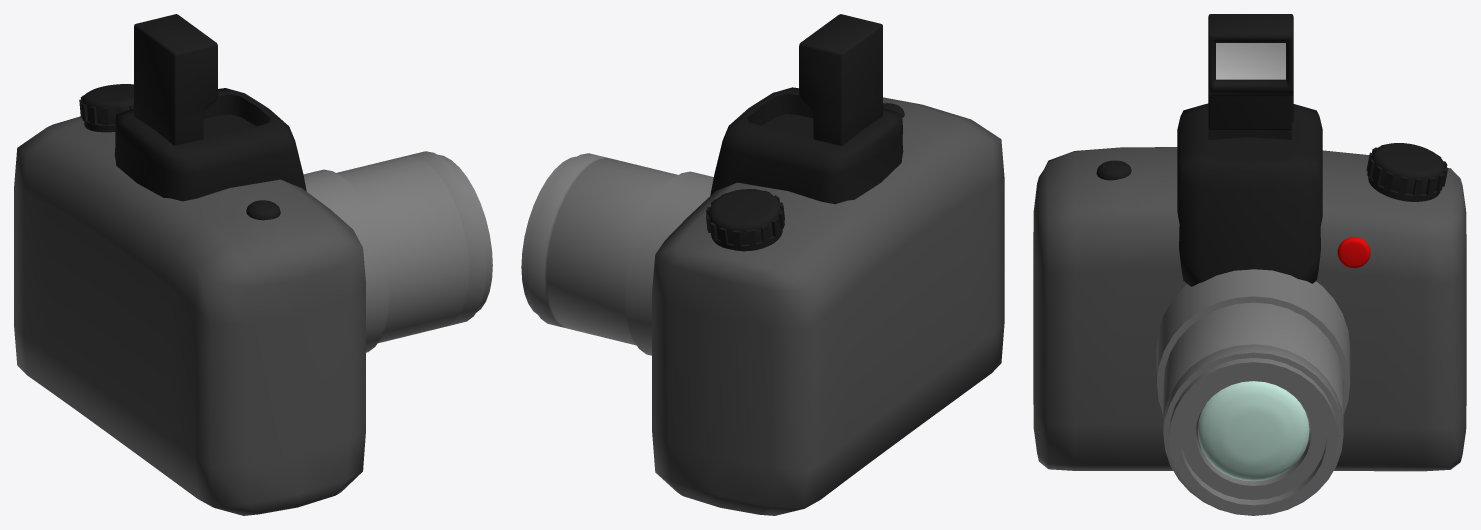
Rendered from camara de fotos.fbx.
3 renders of one model, left to right at view 1: azimuth 30°, elevation 25°; view 2: azimuth 150°, elevation 25°; view 3: azimuth 270°, elevation 25°, orthographic. The views are drawn at different scales.
Visible parts, largest first — view 1: Cube; view 2: Cube; view 3: Cube.
Boxes of the visible parts, bbox=[...] form: Cube: bbox=[14, 14, 492, 515]; Cube: bbox=[521, 14, 1004, 515]; Cube: bbox=[1033, 14, 1466, 515].
Bounding box in the file's own units: 449 × 508 × 478.
